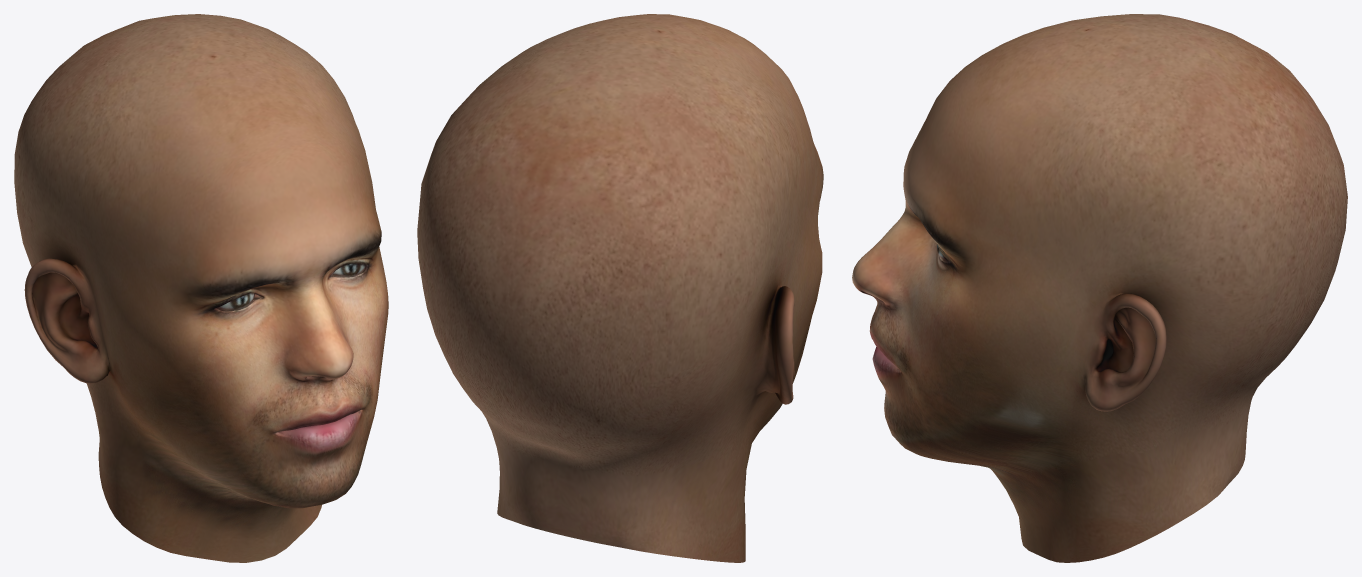
File: Drake Face model.fbx
3 renders of one model, left to right at view 1: azimuth 30°, elevation 25°; view 2: azimuth 150°, elevation 25°; view 3: azimuth 270°, elevation 25°, orthographic. The views are drawn at different scales.
Parts seen in each view (by area): view 1: Head; view 2: Head; view 3: Head.
Boxes of the visible parts, left/top/right/bottom form: Head: left=14, top=14, right=388, bottom=562; Head: left=417, top=14, right=823, bottom=562; Head: left=852, top=14, right=1347, bottom=562.
Bounding box in the file's own units: 0.1916 × 0.2692 × 0.2398.
